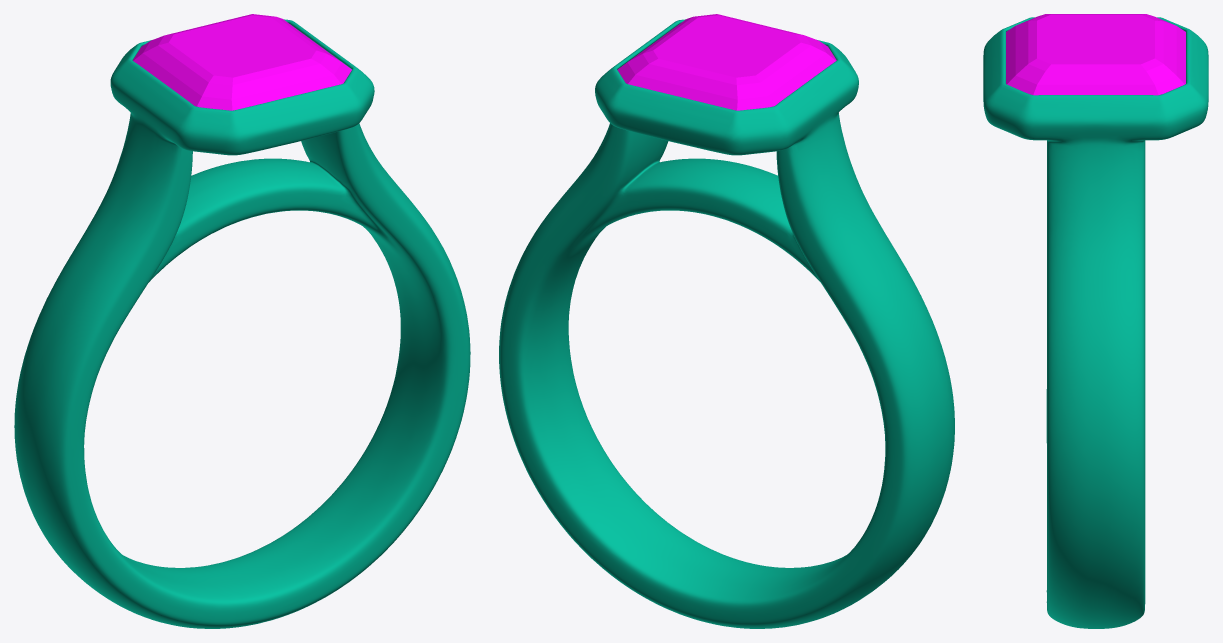
Rendered from BE1964_AS_200ct_RENDER.glb.
3 views of the same model, side by side, from view 1: azimuth 30°, elevation 25°; view 2: azimuth 150°, elevation 25°; view 3: azimuth 270°, elevation 25° (orthographic).
Parts seen in each view (by area): view 1: Metal 01, CS_Diamond_Asscher; view 2: Metal 01, CS_Diamond_Asscher; view 3: Metal 01, CS_Diamond_Asscher.
Part boxes in pixels (x1,y1,x2,y2): Metal 01: [14, 19, 470, 628]; CS_Diamond_Asscher: [133, 14, 351, 110]; Metal 01: [499, 19, 954, 628]; CS_Diamond_Asscher: [617, 14, 836, 110]; Metal 01: [983, 17, 1208, 628]; CS_Diamond_Asscher: [1006, 14, 1185, 95].
Size of the model in its own units: 20.11 by 25.42 by 9.18.
